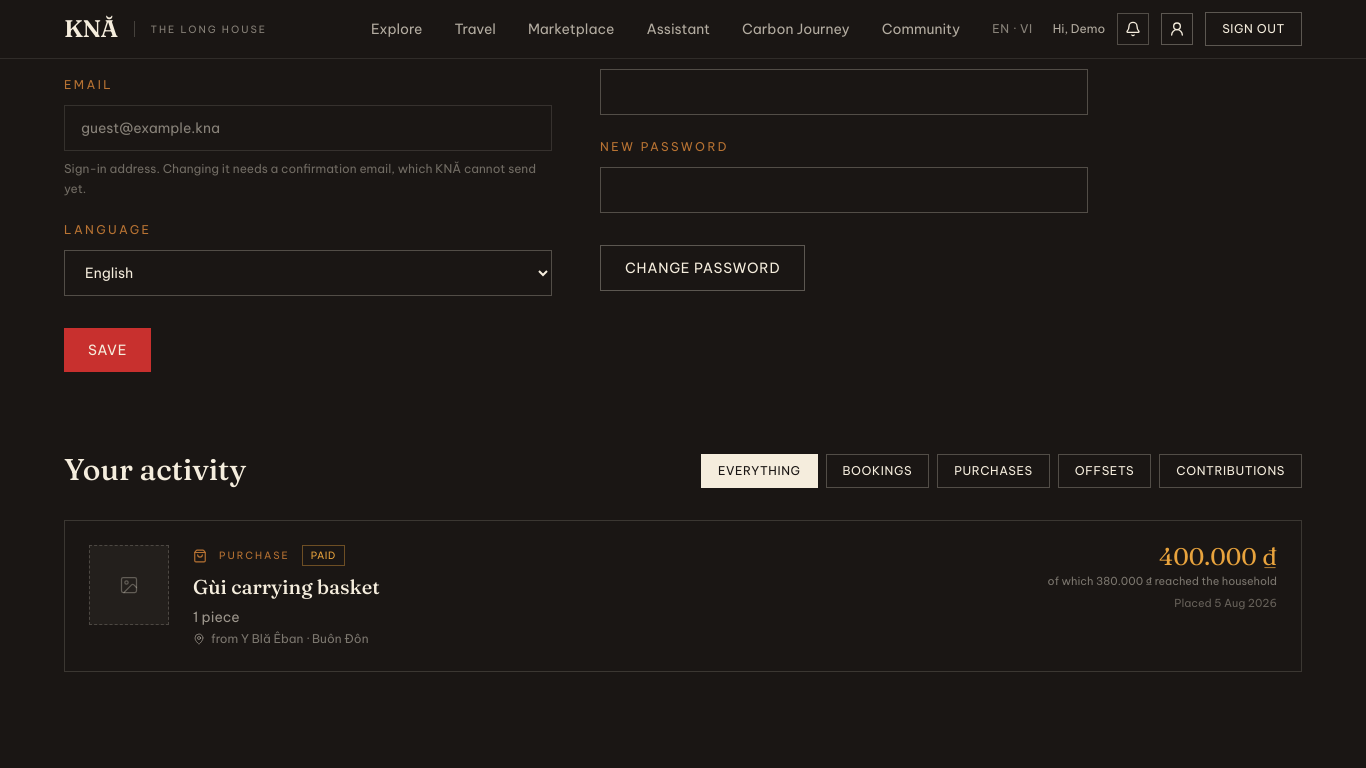
Test: Account › points at the tracker when there are no offsets to show
(page scrolled)
expect the heading "Gùi carrying basket" is shown: met, box [193,574,380,599]
Click the button "Offsets" at (1104, 471), box [1058,454,1151,488]
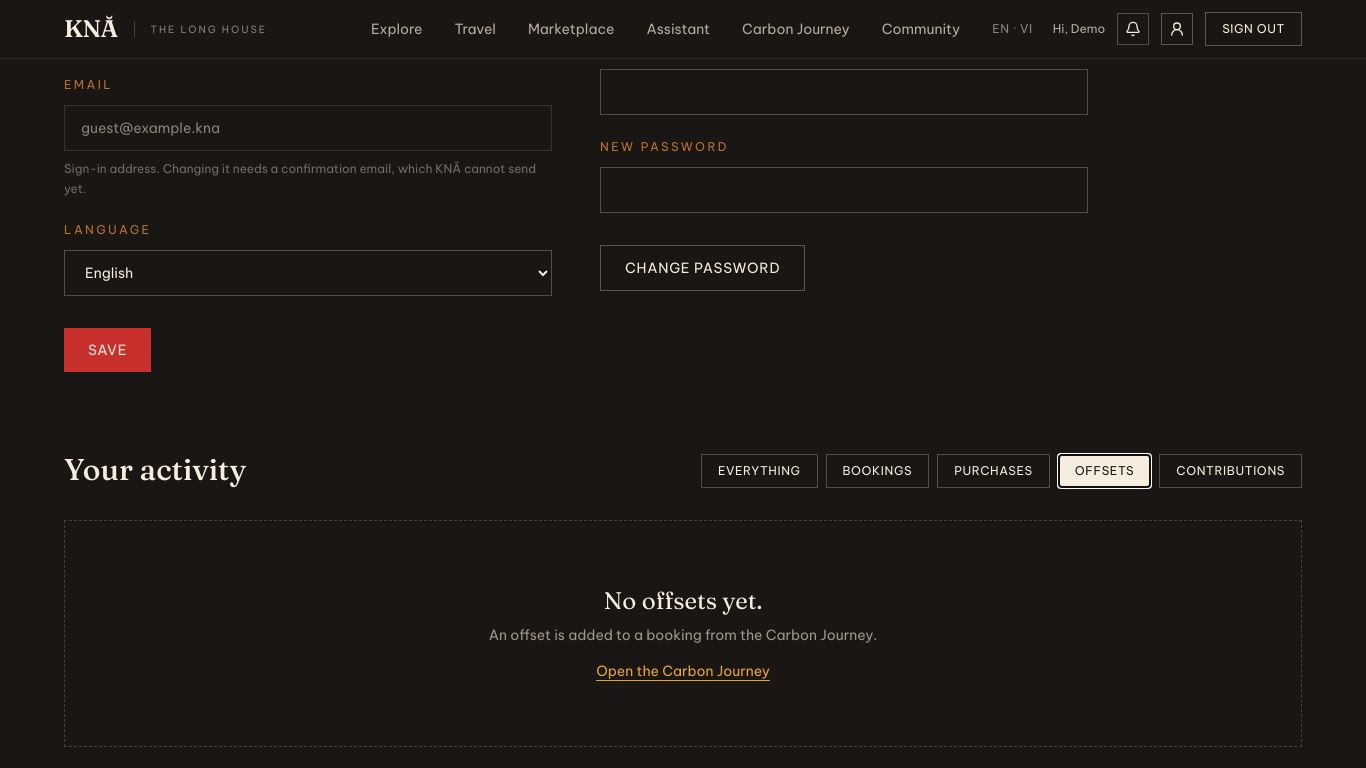
expect the text "No offsets yet." is shown: met, box [604,586,762,615]
expect the link "Open the Carbon Journey" is shown: met, box [596,661,770,681]
